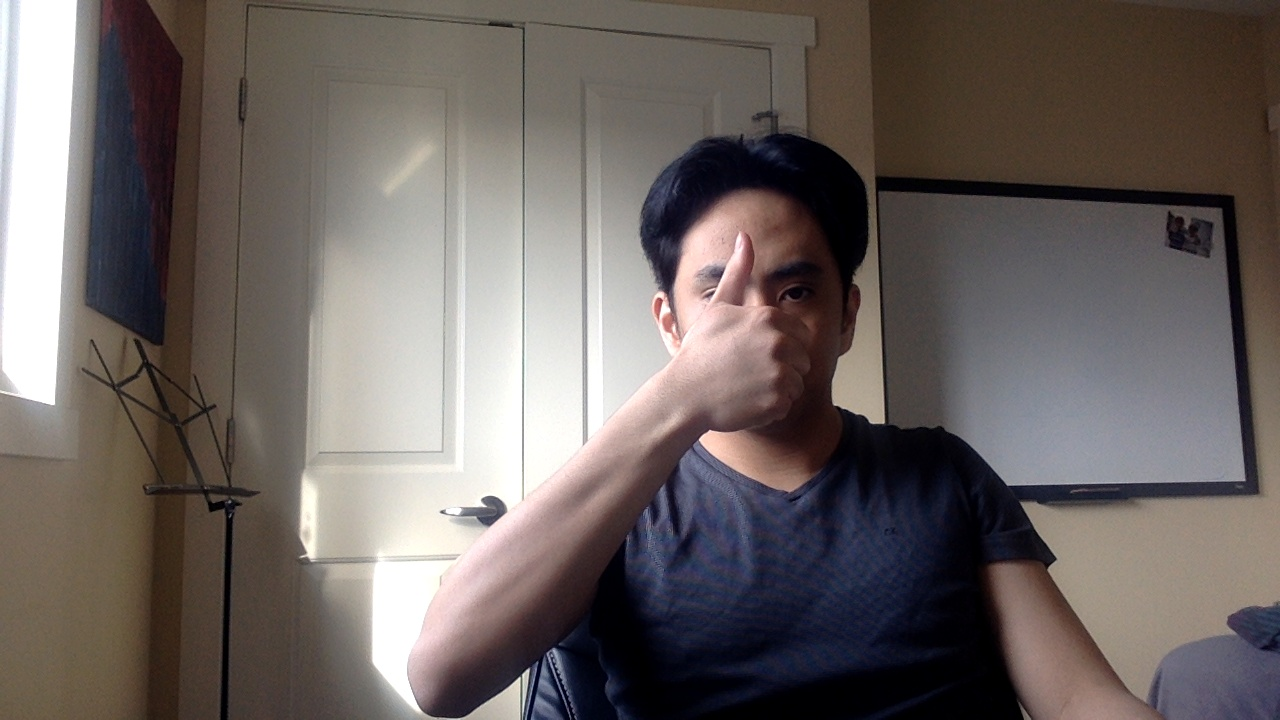ThumbsUp: (683, 230, 809, 440)
